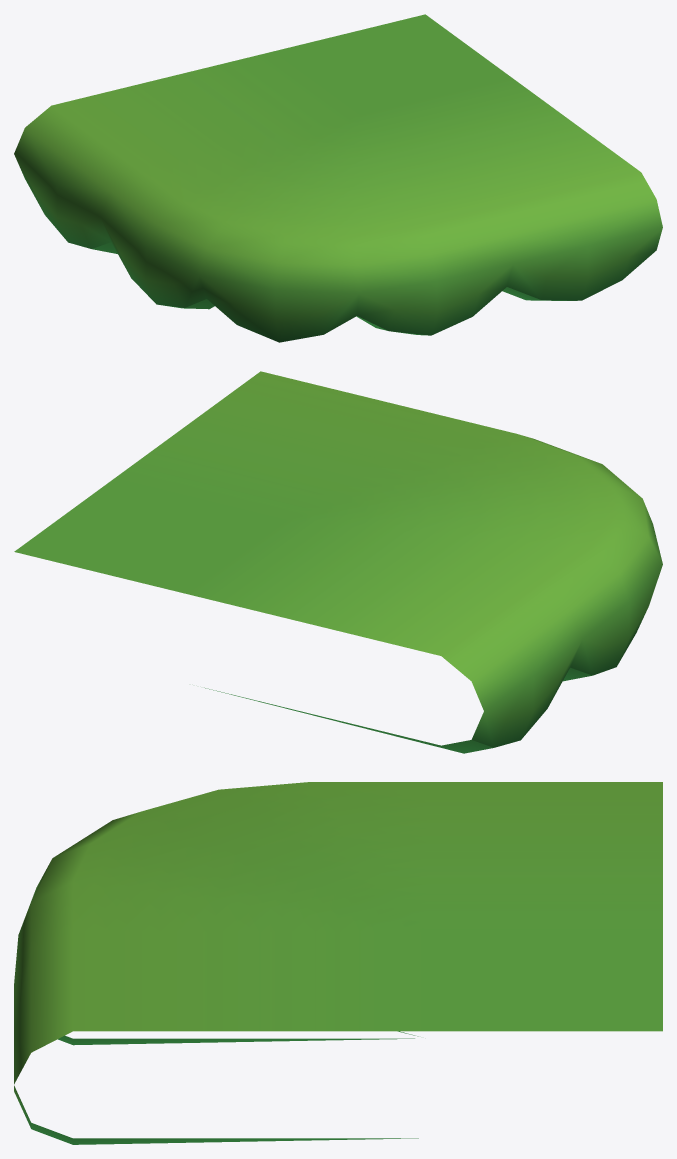
Rendered from Hill_Top_G_OuterCorner_Color1.gltf.
The picture shows the model from 3 angles, top to bottom: view 1: azimuth 30°, elevation 25°; view 2: azimuth 150°, elevation 25°; view 3: azimuth 270°, elevation 25°; orthographic projection. The views are drawn at different scales.
Parts seen in each view (by area): view 1: Hill_Top_G_OuterCorner_Color1; view 2: Hill_Top_G_OuterCorner_Color1; view 3: Hill_Top_G_OuterCorner_Color1.
Boxes of the visible parts, x1,y1,x2,y2 form: Hill_Top_G_OuterCorner_Color1: [14, 14, 662, 342]; Hill_Top_G_OuterCorner_Color1: [14, 371, 662, 753]; Hill_Top_G_OuterCorner_Color1: [14, 782, 662, 1144].
Bounding box in the file's own units: 2.75 × 0.7052 × 2.75.
Materials: 1 (1 with a texture image).
